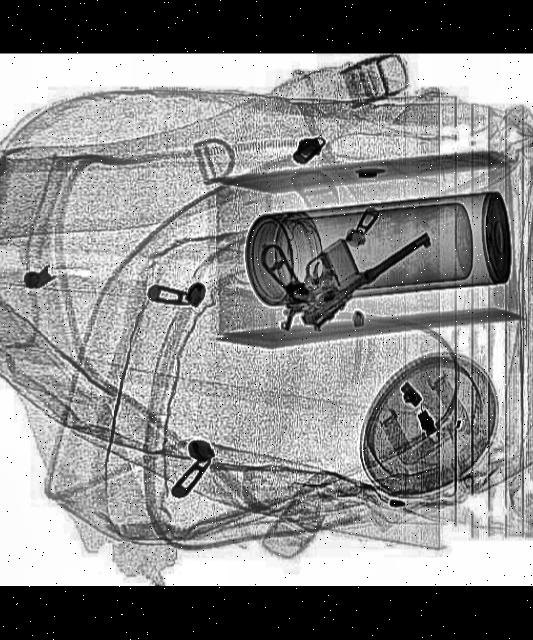Gun: (244, 168, 436, 336)
